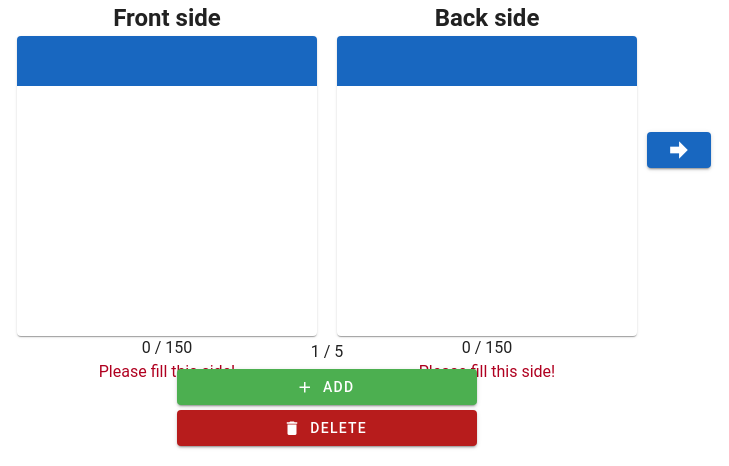
Test: FlashcardForm component › Delete button › Delete button works correctly if the user is on the first card
What coordinates should you click on to do the following:
click the button "Delete"
I would click on:
 (327, 428)
Its box is [177,410,477,446].
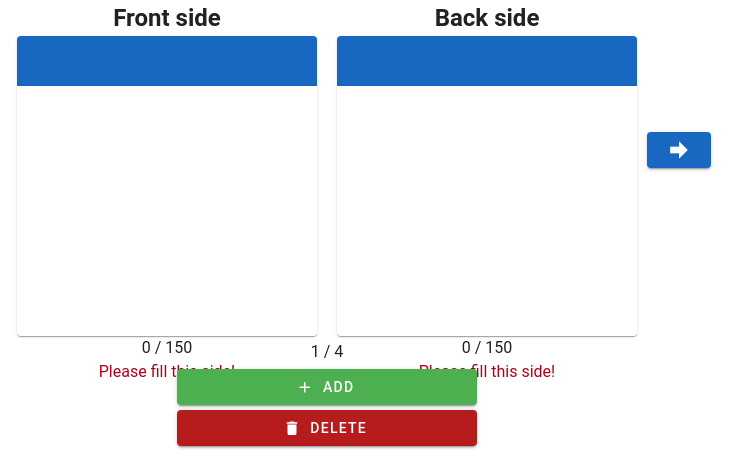
Expected: the text "1 / 4" is shown, [311,340,343,364]
